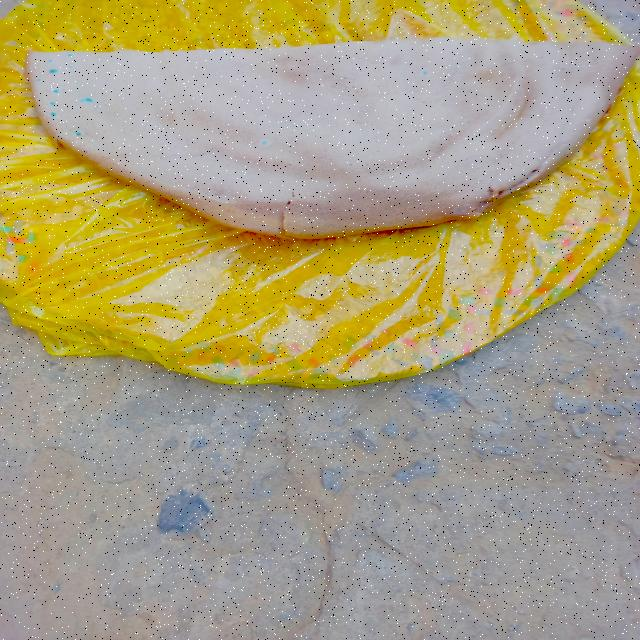injera_mold: (258, 138, 271, 147), (84, 96, 94, 103), (72, 130, 83, 136), (49, 68, 59, 74), (62, 132, 69, 140), (585, 118, 592, 125), (218, 200, 230, 204), (49, 111, 57, 117), (48, 100, 56, 106), (73, 140, 81, 146), (421, 70, 429, 75), (53, 88, 60, 93), (66, 54, 74, 57), (36, 78, 41, 82), (48, 59, 54, 62), (582, 64, 586, 68), (56, 134, 60, 138), (80, 99, 84, 103), (68, 65, 72, 68), (588, 65, 593, 67), (577, 62, 582, 64), (233, 196, 236, 198), (229, 190, 231, 192), (235, 200, 237, 202)
